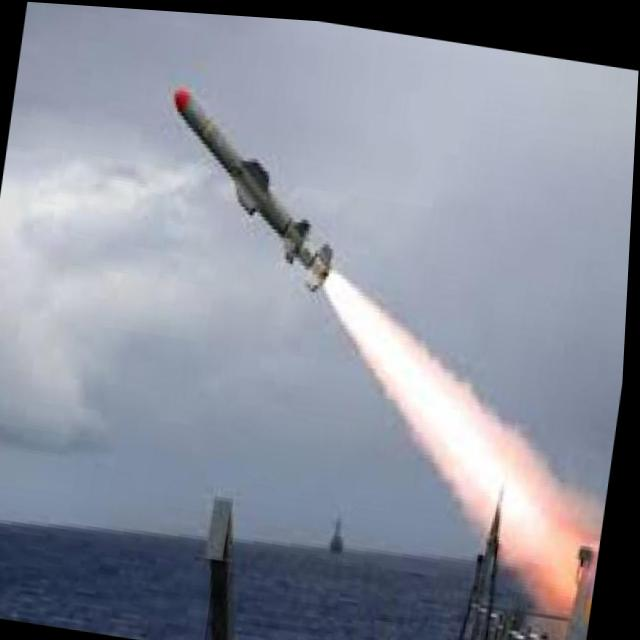missile: (147, 70, 358, 281)
